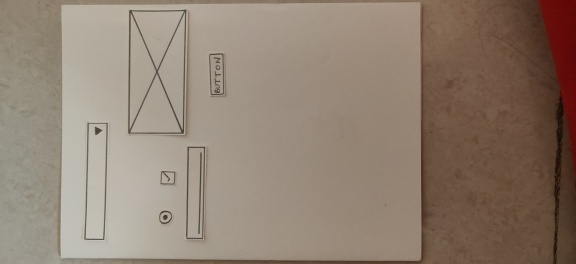button: (207, 51, 226, 98)
checkbox: (158, 168, 177, 188)
dropdown: (84, 121, 109, 240)
img: (126, 8, 188, 136)
radio: (158, 209, 173, 225)
text: (184, 143, 207, 242)
